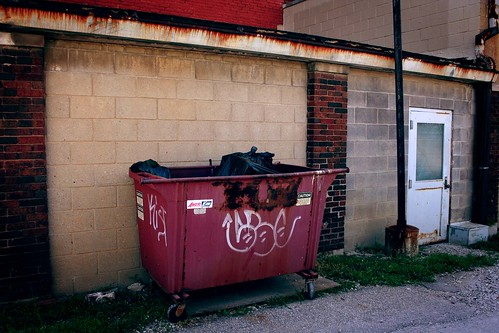building: (10, 4, 499, 333)
door: (401, 102, 454, 247)
dumpster: (125, 160, 345, 294)
graffiti: (213, 205, 310, 262), (143, 192, 175, 249)
